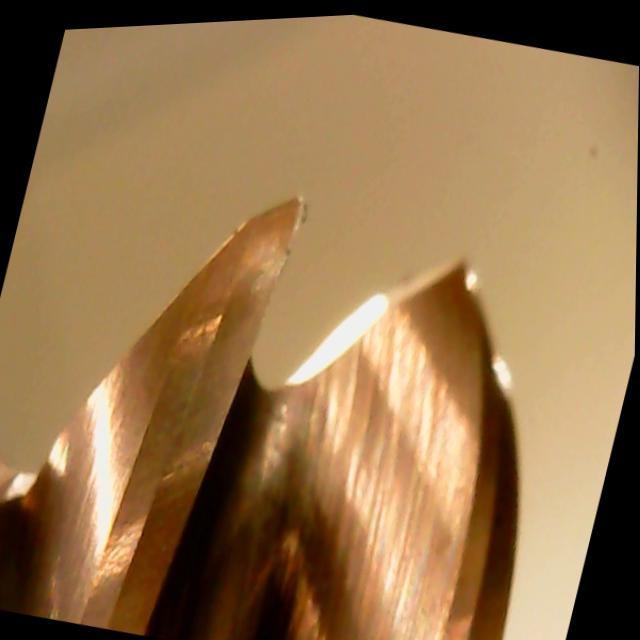Tool-wear-class-0: (122, 159, 317, 516)
